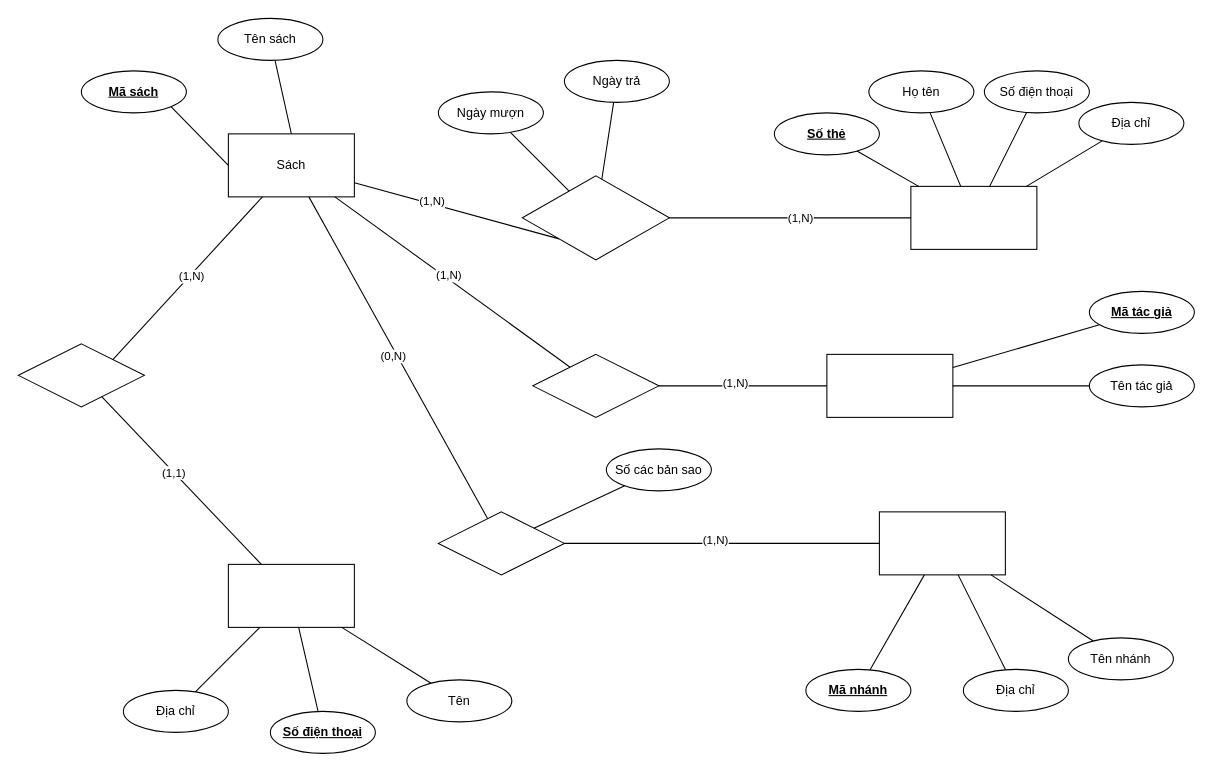
Image size: 1213x772. Some labels were removed from this diagram. The box of each missing label's shape, as (x1, y1, x2, y2) in pixels:
Lưu trữ: (437, 511, 564, 575)
Mượn sách: (521, 175, 669, 260)
Người mượn: (910, 185, 1037, 249)
Nhà xuất bản: (227, 563, 354, 627)
Nhánh thư viện: (878, 511, 1005, 575)
Tác giả: (826, 353, 953, 417)
Viết bởi: (532, 353, 659, 417)
Xuất bản: (17, 343, 144, 407)
